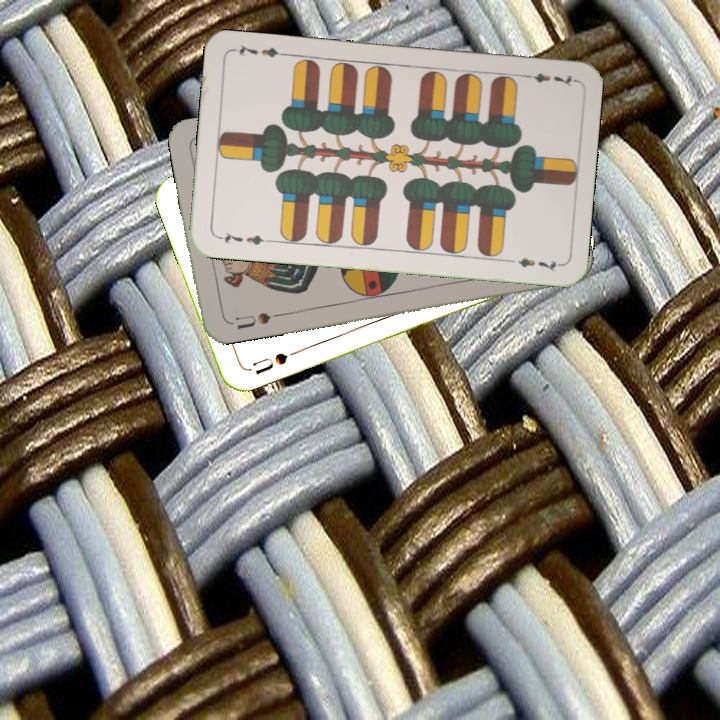E7: (213, 227, 272, 248), (518, 69, 577, 89)
SU: (248, 348, 291, 377), (223, 308, 273, 332)
